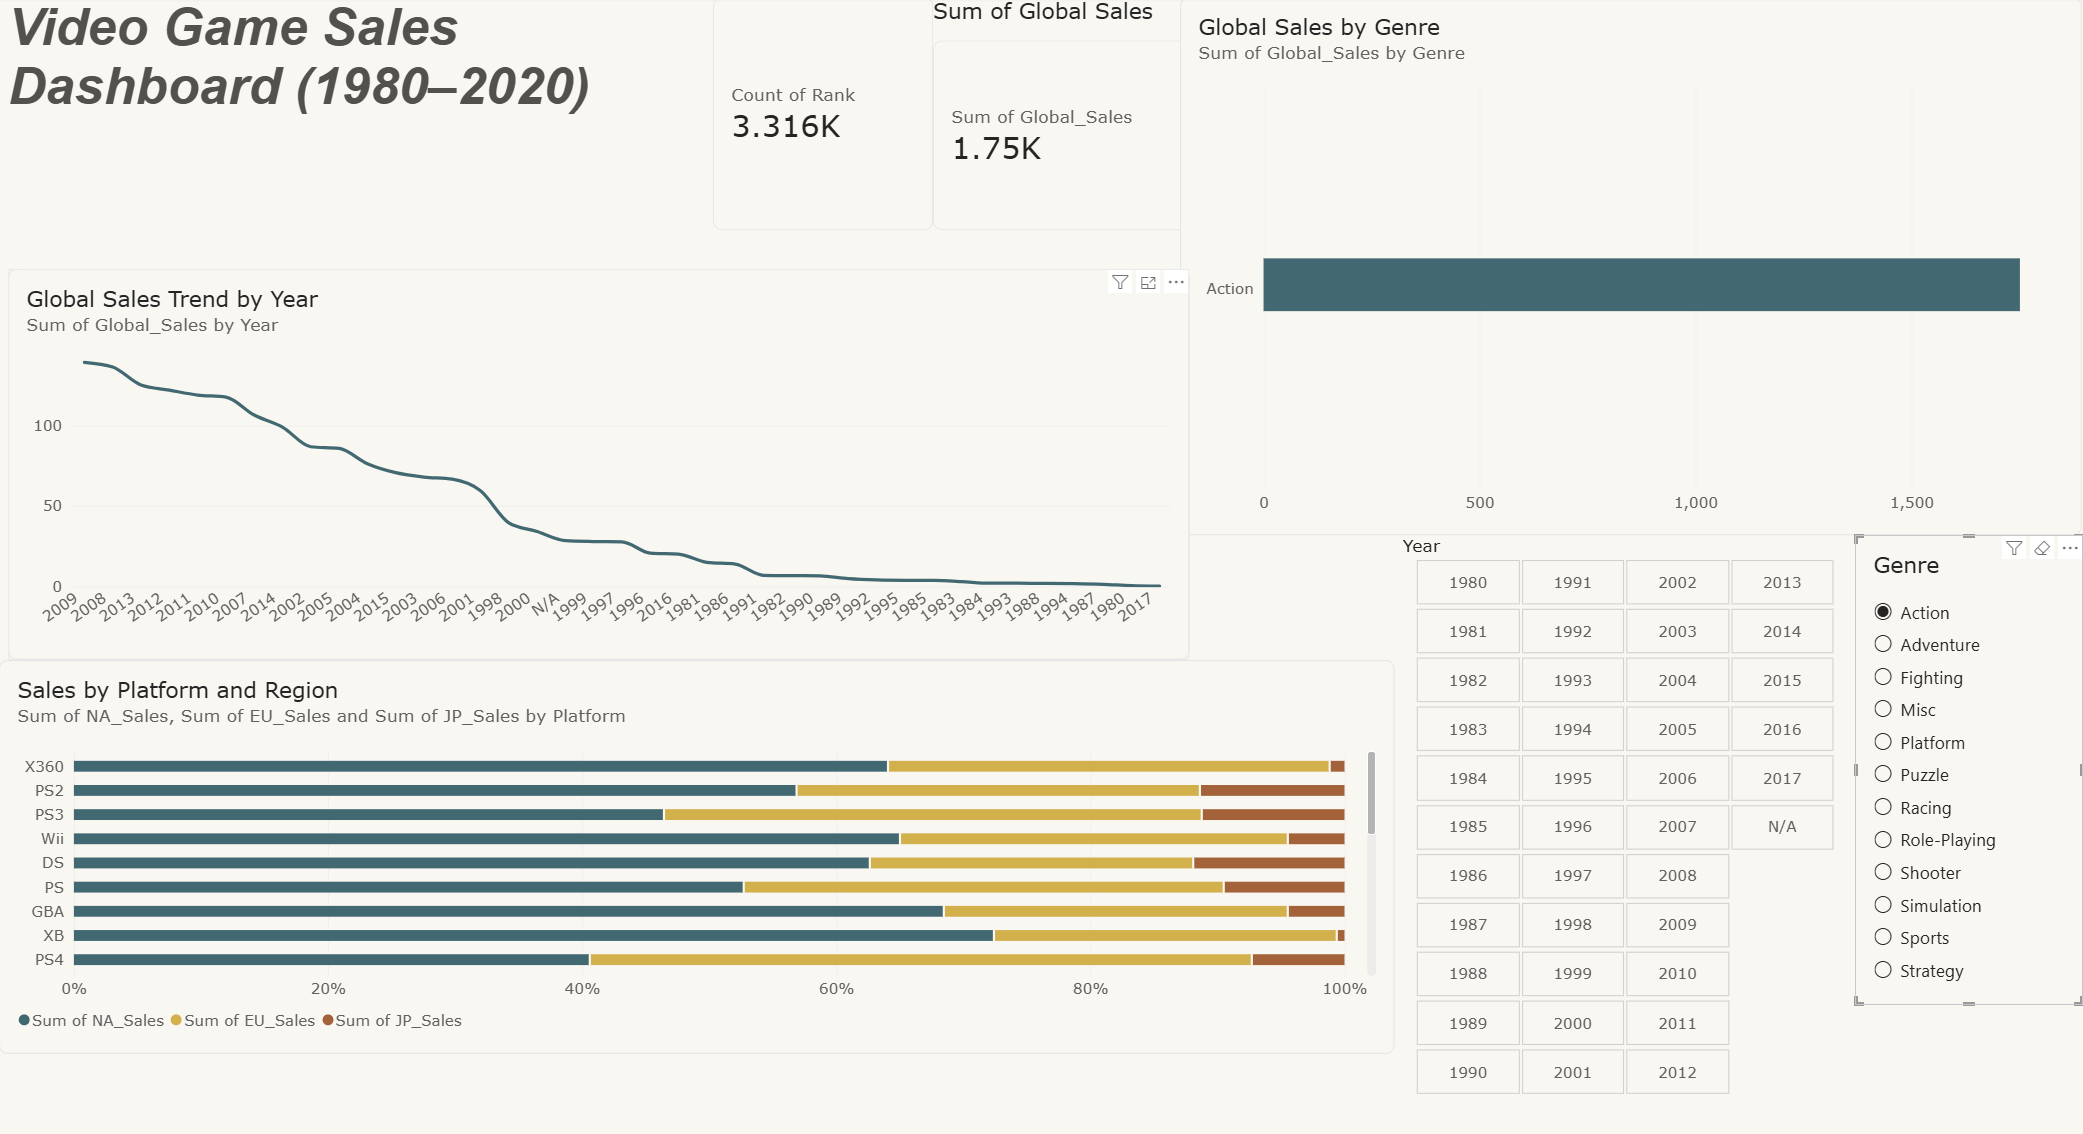

This screenshot's page, from the dashboard's own definition file:
{"tool":"powerbi","page":{"name":"Page 1","canvas":[1920,1080],"ordinal":0},"visuals":[{"type":"cardVisual","title":"Sum of Global Sales","fields":{"Data":["Sum(vgsalesGlobale.Global_Sales)"]},"box":[860.9,0,235.6,216],"z":0},{"type":"cardVisual","fields":{"Data":["CountNonNull(vgsalesGlobale.Rank)"]},"box":[657.7,0,203.2,216],"z":1000},{"type":"clusteredBarChart","title":"Global Sales by Genre","fields":{"Category":["vgsalesGlobale.Genre"],"Y":["Sum(vgsalesGlobale.Global_Sales)"]},"box":[1088.6,0,831.4,495.7],"z":2000},{"type":"lineChart","title":"Global Sales Trend by Year","fields":{"Category":["vgsalesGlobale.Year"],"Y":["Sum(vgsalesGlobale.Global_Sales)"]},"box":[7.9,250.3,1088.6,360.2],"z":3000},{"type":"hundredPercentStackedBarChart","title":"Sales by Platform and Region","fields":{"Category":["vgsalesGlobale.Platform"],"Y":["Sum(vgsalesGlobale.NA_Sales)","Sum(vgsalesGlobale.EU_Sales)","Sum(vgsalesGlobale.JP_Sales)"]},"box":[0,610.6,1285.9,363.2],"z":4000},{"type":"listSlicer","fields":{"Values":["vgsalesGlobale.Genre"]},"box":[1709.9,495.7,210.1,432.9],"z":5000},{"type":"slicer","fields":{"Values":["vgsalesGlobale.Year"]},"box":[1285.9,495.7,424,517.3],"z":6000},{"type":"textbox","box":[1710,929,210,150],"z":7000},{"type":"textbox","title":"Video Game Sales Dashboard (1980–2020)","box":[8,0,650,216],"z":8000}]}

Visuals, with their boxes on the page's 1920x1080 design canvas (x1, y1, x2, y2). These are canvas units, not pixel positions in the 2083x1134 screenshot, which may show the page scaled, cropped or inside an application window:
"Sum of Global Sales" cardVisual: box=[861, 0, 1096, 216]
cardVisual - CountNonNull(vgsalesGlobale.Rank): box=[658, 0, 861, 216]
"Global Sales by Genre" clusteredBarChart: box=[1089, 0, 1920, 496]
"Global Sales Trend by Year" lineChart: box=[8, 250, 1096, 610]
"Sales by Platform and Region" hundredPercentStackedBarChart: box=[0, 611, 1286, 974]
listSlicer - vgsalesGlobale.Genre: box=[1710, 496, 1920, 929]
slicer - vgsalesGlobale.Year: box=[1286, 496, 1710, 1013]
textbox: box=[1710, 929, 1920, 1079]
"Video Game Sales Dashboard (1980–2020)" textbox: box=[8, 0, 658, 216]
